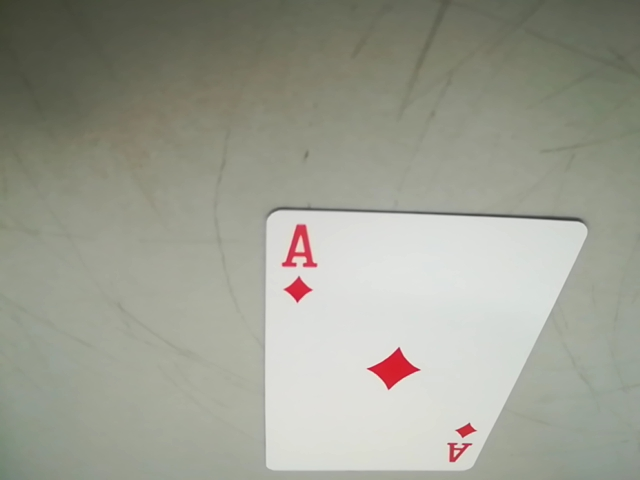fk a: (273, 220, 321, 279), (440, 418, 481, 468)
